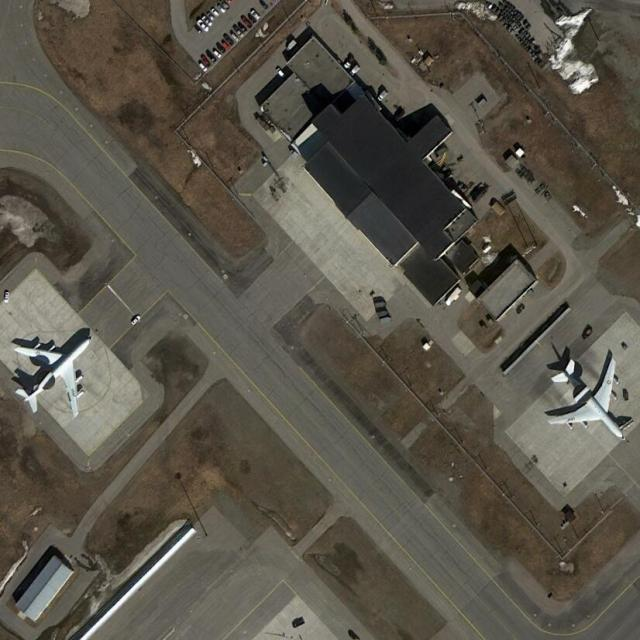fighter jet: (530, 345, 630, 454), (7, 311, 96, 418)
